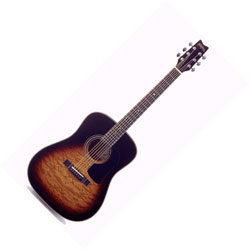guitar: (27, 38, 210, 222)
